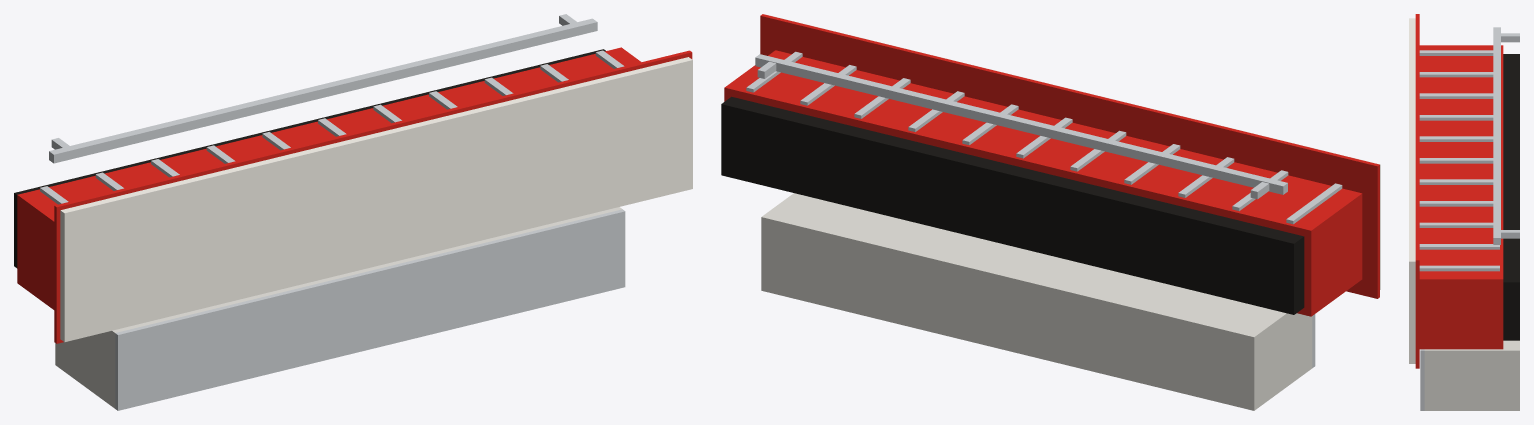
Rendered from counter.glb.
3 renders of one model, left to right at view 1: azimuth 30°, elevation 25°; view 2: azimuth 150°, elevation 25°; view 3: azimuth 270°, elevation 25°, orthographic. The views are drawn at different scales.
Visible parts, largest first — view 1: 白天板, バック天板, 本体(赤), フットレール, 赤エッジ, バック作業台, 台輪; view 2: バック作業台, 台輪, 本体(赤), 赤エッジ, フットレール, 白天板; view 3: 本体(赤), バック作業台, 台輪, 白天板, 赤エッジ, フットレール, リブ_11, リブ_10, リブ_1, リブ_3, リブ_4, リブ_5 (+8 smaller).
Part boxes in pixels (x1,y1,x2,y2): 白天板: [60, 57, 692, 342]; バック天板: [115, 209, 625, 410]; 本体(赤): [17, 47, 641, 309]; フットレール: [49, 18, 597, 163]; 赤エッジ: [54, 50, 692, 343]; バック作業台: [55, 207, 622, 408]; 台輪: [14, 49, 605, 268]; バック作業台: [761, 193, 1312, 410]; 台輪: [721, 96, 1304, 314]; 本体(赤): [724, 50, 1362, 316]; 赤エッジ: [760, 14, 1379, 298]; フットレール: [755, 54, 1287, 194]; 白天板: [770, 15, 1380, 289]; 本体(赤): [1419, 45, 1503, 349]; バック作業台: [1424, 340, 1519, 410]; 台輪: [1503, 54, 1519, 340]; 白天板: [1409, 18, 1415, 363]; 赤エッジ: [1415, 14, 1419, 368]; フットレール: [1493, 27, 1500, 244]; リブ_11: [1419, 265, 1499, 271]; リブ_10: [1419, 244, 1499, 249]; リブ_1: [1419, 50, 1493, 55]; リブ_3: [1419, 93, 1493, 98]; リブ_4: [1419, 115, 1493, 120]; リブ_5: [1419, 136, 1493, 141].
Size of the model in its own units: 5260 by 1795 by 1000.
